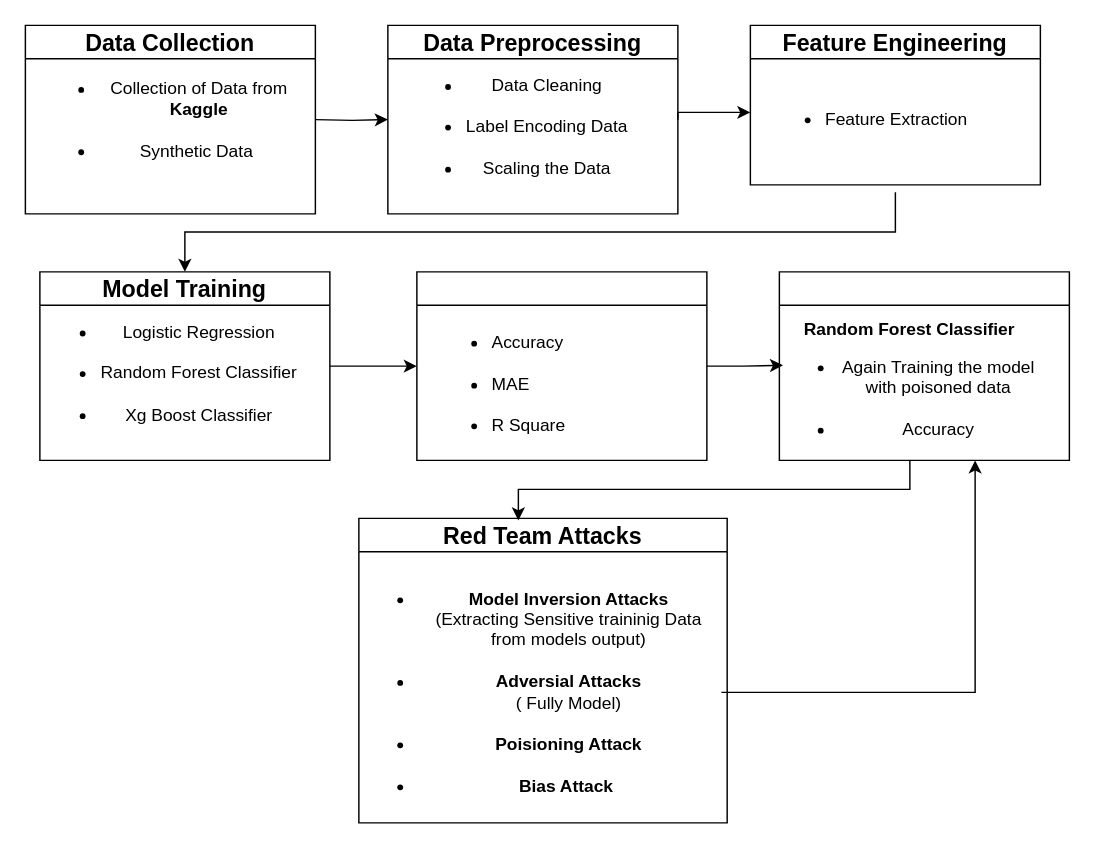
The diagram is 1095 pixels wide and 848 high, and some of its shapes have lost their labels. The box of each missing label's shape, as (x1, y1, x2, y2) in pixels:
Model Evaluation: (415, 270, 707, 460)
Model Selection: (778, 270, 1069, 460)
